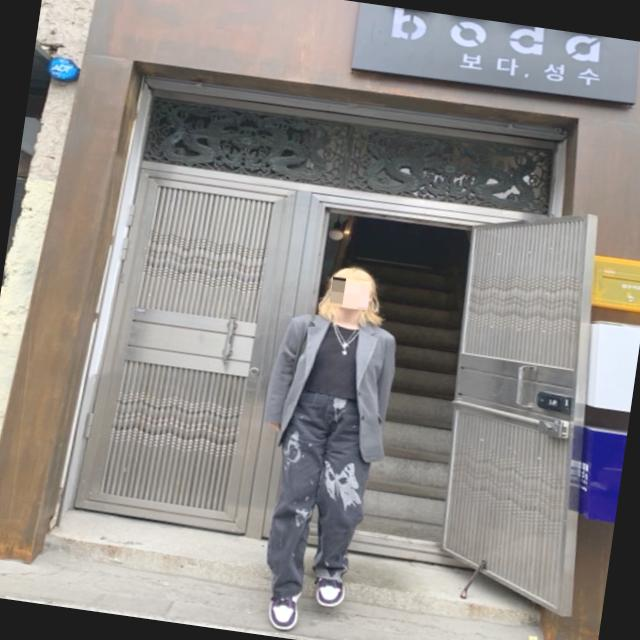blazer: (261, 306, 405, 466)
denimpants: (262, 388, 376, 607)
